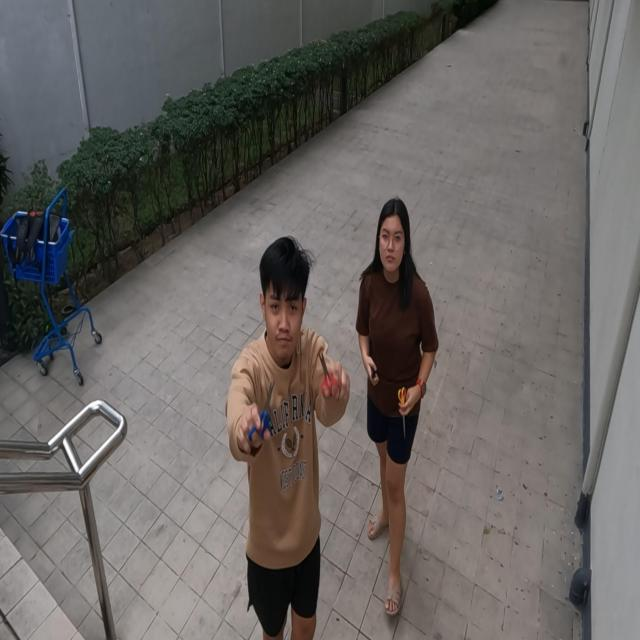scissor: (248, 379, 275, 447), (317, 351, 341, 400), (398, 387, 407, 439)
